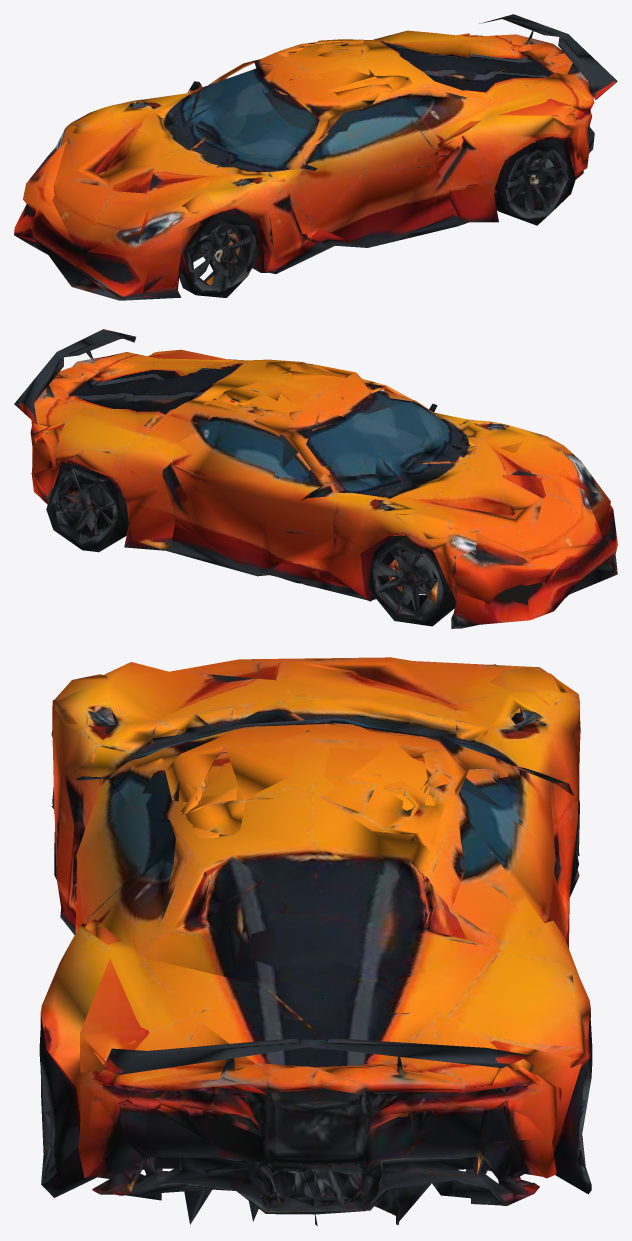
The model's file is r_sports.glb.
3 renders of one model, top to bottom at view 1: azimuth 30°, elevation 25°; view 2: azimuth 150°, elevation 25°; view 3: azimuth 270°, elevation 25°, orthographic. The views are drawn at different scales.
Size of the model in its own units: 1.85 by 0.499 by 0.8425.
1 material, 1 textured.
